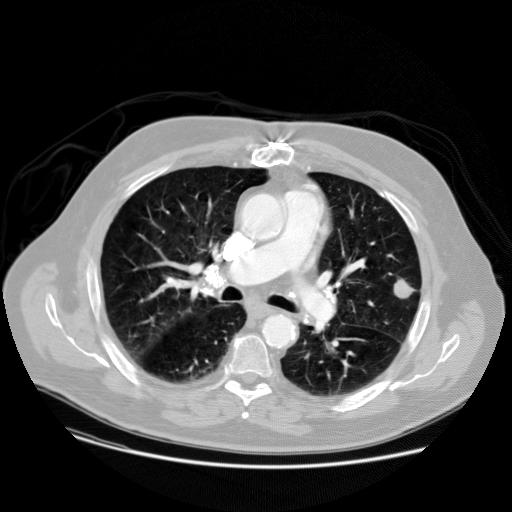nodule: (390, 277, 415, 302)
